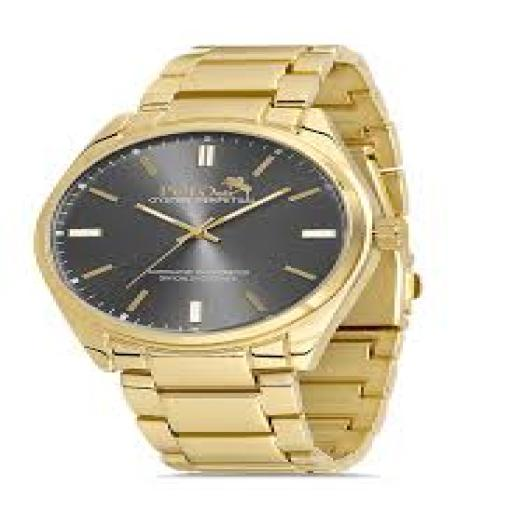KolSaati: (30, 18, 454, 487)
